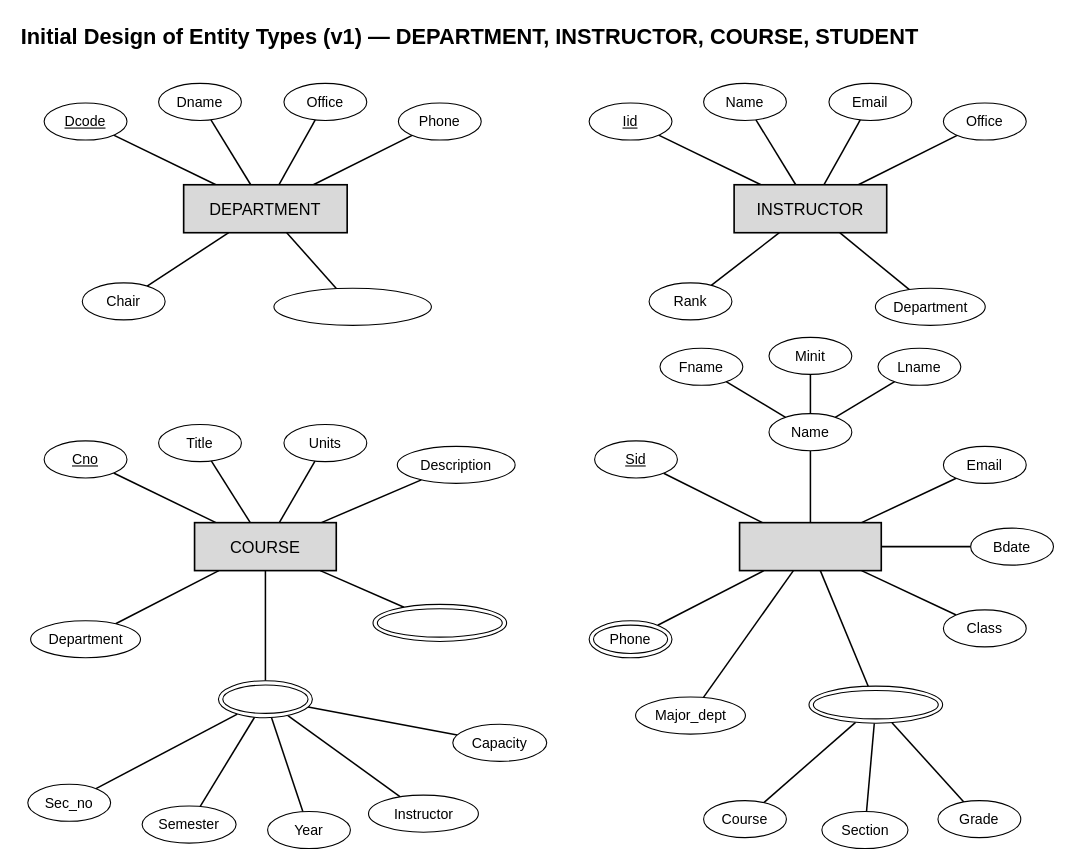
Some shapes in this 1073 by 868 pixel diagram are drawn without their labels. Each missing label, with the centre of its shape:
"Chair_start_date" goes at (x=352, y=306).
"Prerequisites" goes at (x=439, y=622).
"Registrations" goes at (x=875, y=704).
"Sections" goes at (x=264, y=699).
"STUDENT" goes at (x=810, y=546).
